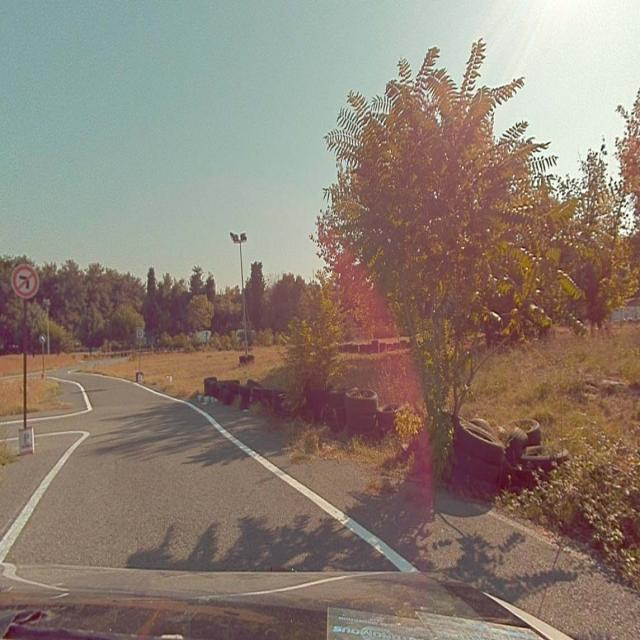durak: (136, 329, 142, 338)
soladonulmez: (13, 265, 37, 297)
